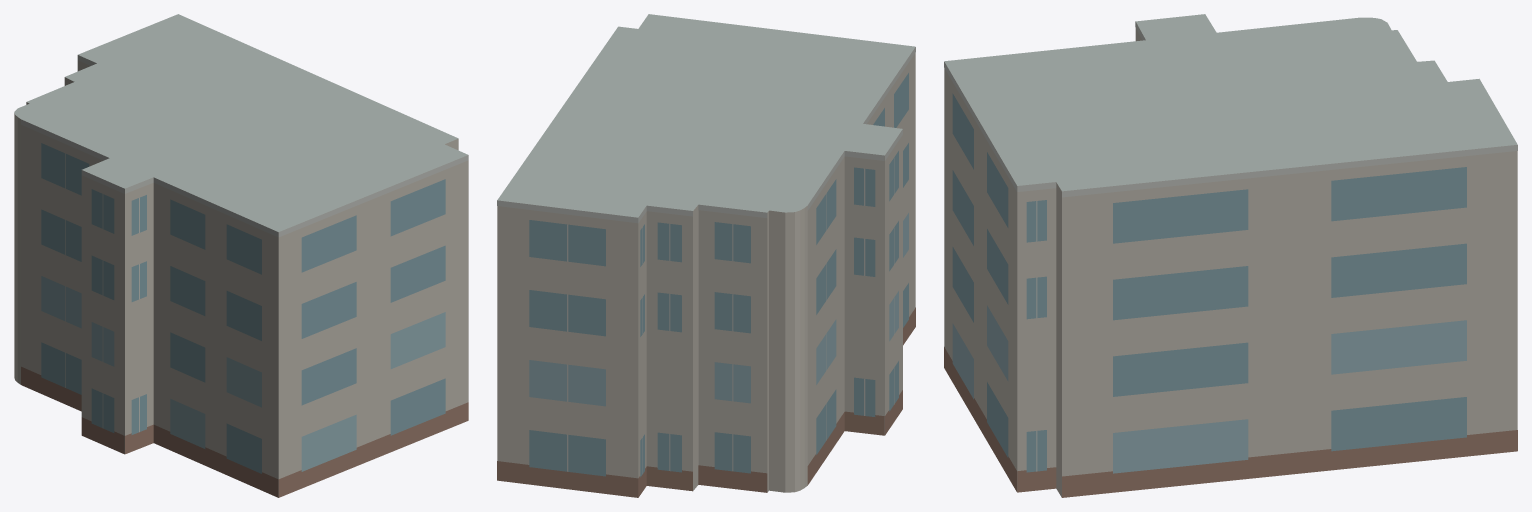
File: survey-upis-32820724.glb
3 renders of one model, left to right at view 1: azimuth 30°, elevation 25°; view 2: azimuth 150°, elevation 25°; view 3: azimuth 270°, elevation 25°, orthographic. The views are drawn at different scales.
Parts seen in each view (by area): view 1: survey-upis-32820724.tmp; view 2: survey-upis-32820724.tmp; view 3: survey-upis-32820724.tmp.
Boxes of the visible parts, x1,y1,x2,y2 form: survey-upis-32820724.tmp: (14, 14, 468, 497); survey-upis-32820724.tmp: (497, 14, 915, 497); survey-upis-32820724.tmp: (944, 14, 1517, 497).
Bounding box in the file's own units: 15.15 × 12.2 × 20.7.
